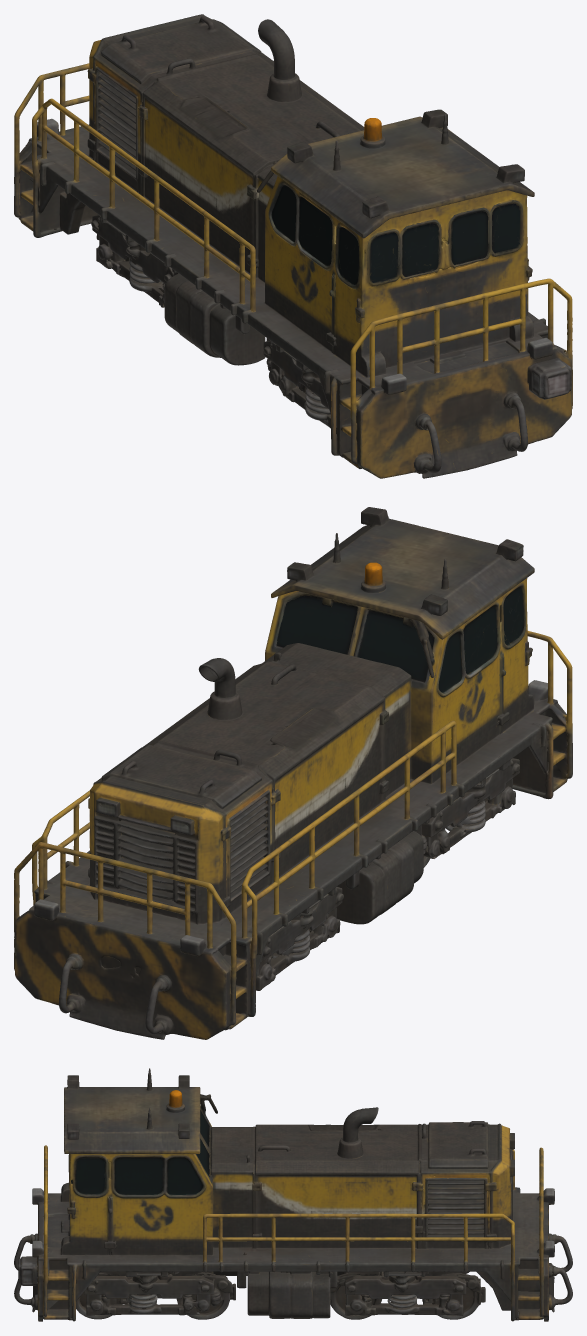
The model's file is Train.glb.
The picture shows the model from 3 angles, top to bottom: view 1: azimuth 30°, elevation 25°; view 2: azimuth 150°, elevation 25°; view 3: azimuth 270°, elevation 25°; orthographic projection. The views are drawn at different scales.
Visible parts, largest first — view 1: world; view 2: world; view 3: world.
Boxes of the visible parts, left/top/right/bottom form: world: left=14, top=14, right=572, bottom=478; world: left=14, top=507, right=572, bottom=1039; world: left=14, top=1068, right=572, bottom=1321.
Size of the model in its own units: 0.3427 by 0.4154 by 1.
Materials: 1 (1 with a texture image).
